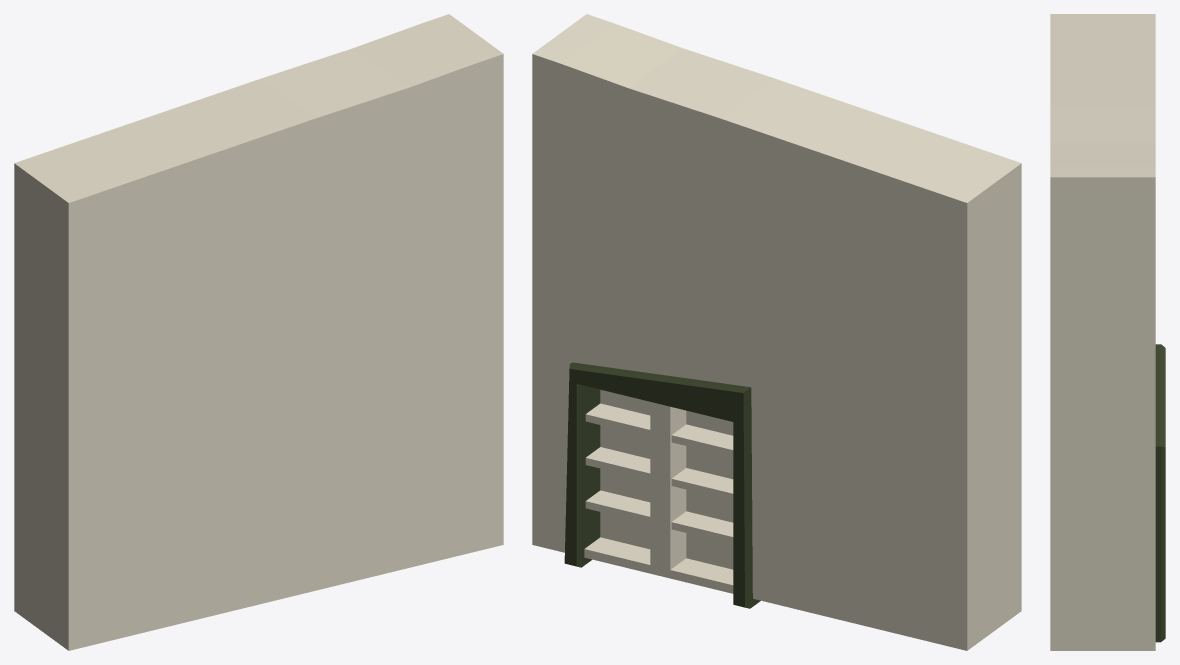
The model's file is wall_left.fbx.
3 renders of one model, left to right at view 1: azimuth 30°, elevation 25°; view 2: azimuth 150°, elevation 25°; view 3: azimuth 270°, elevation 25°, orthographic. The views are drawn at different scales.
Parts seen in each view (by area): view 1: wall1.007; view 2: wall1.007; view 3: wall1.007.
Boxes of the visible parts, x1=… form: wall1.007: x1=14, y1=14, x2=503, y2=650; wall1.007: x1=532, y1=14, x2=1021, y2=650; wall1.007: x1=1050, y1=14, x2=1165, y2=650.
Size of the model in its own units: 2296 by 2516 by 546.
